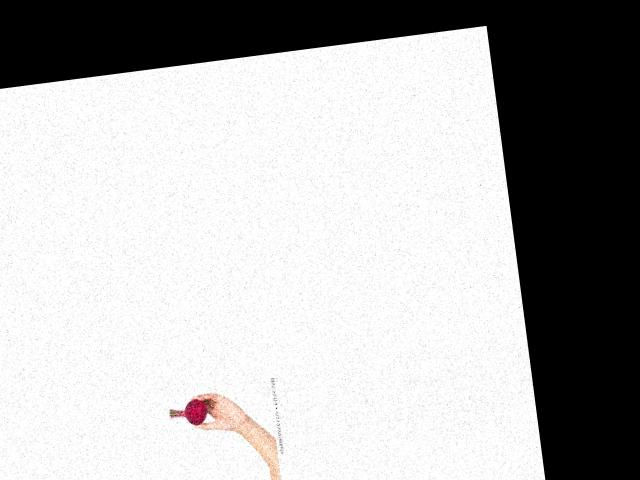beet: (167, 397, 209, 427)
